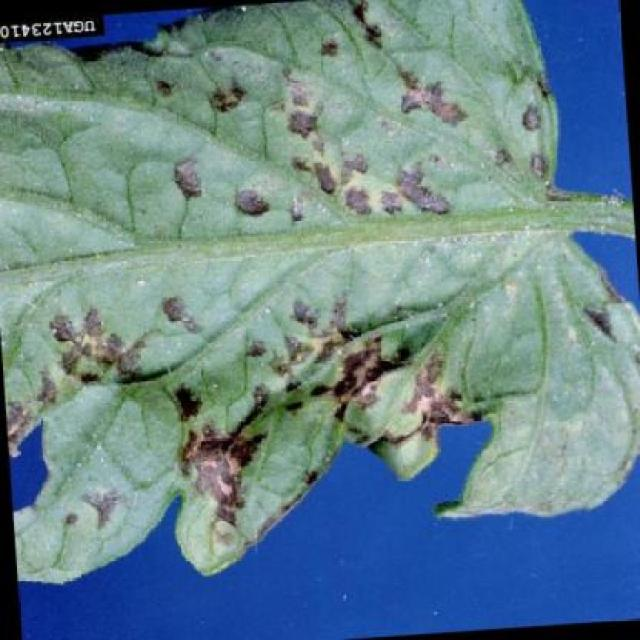Tomato leaf bacterial spot: (0, 0, 638, 577)
